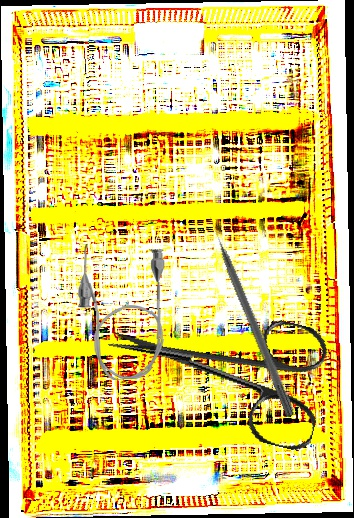Cannula: (76, 241, 169, 381)
Iris Scissors: (94, 281, 338, 454)
Pusher: (205, 214, 298, 418)
